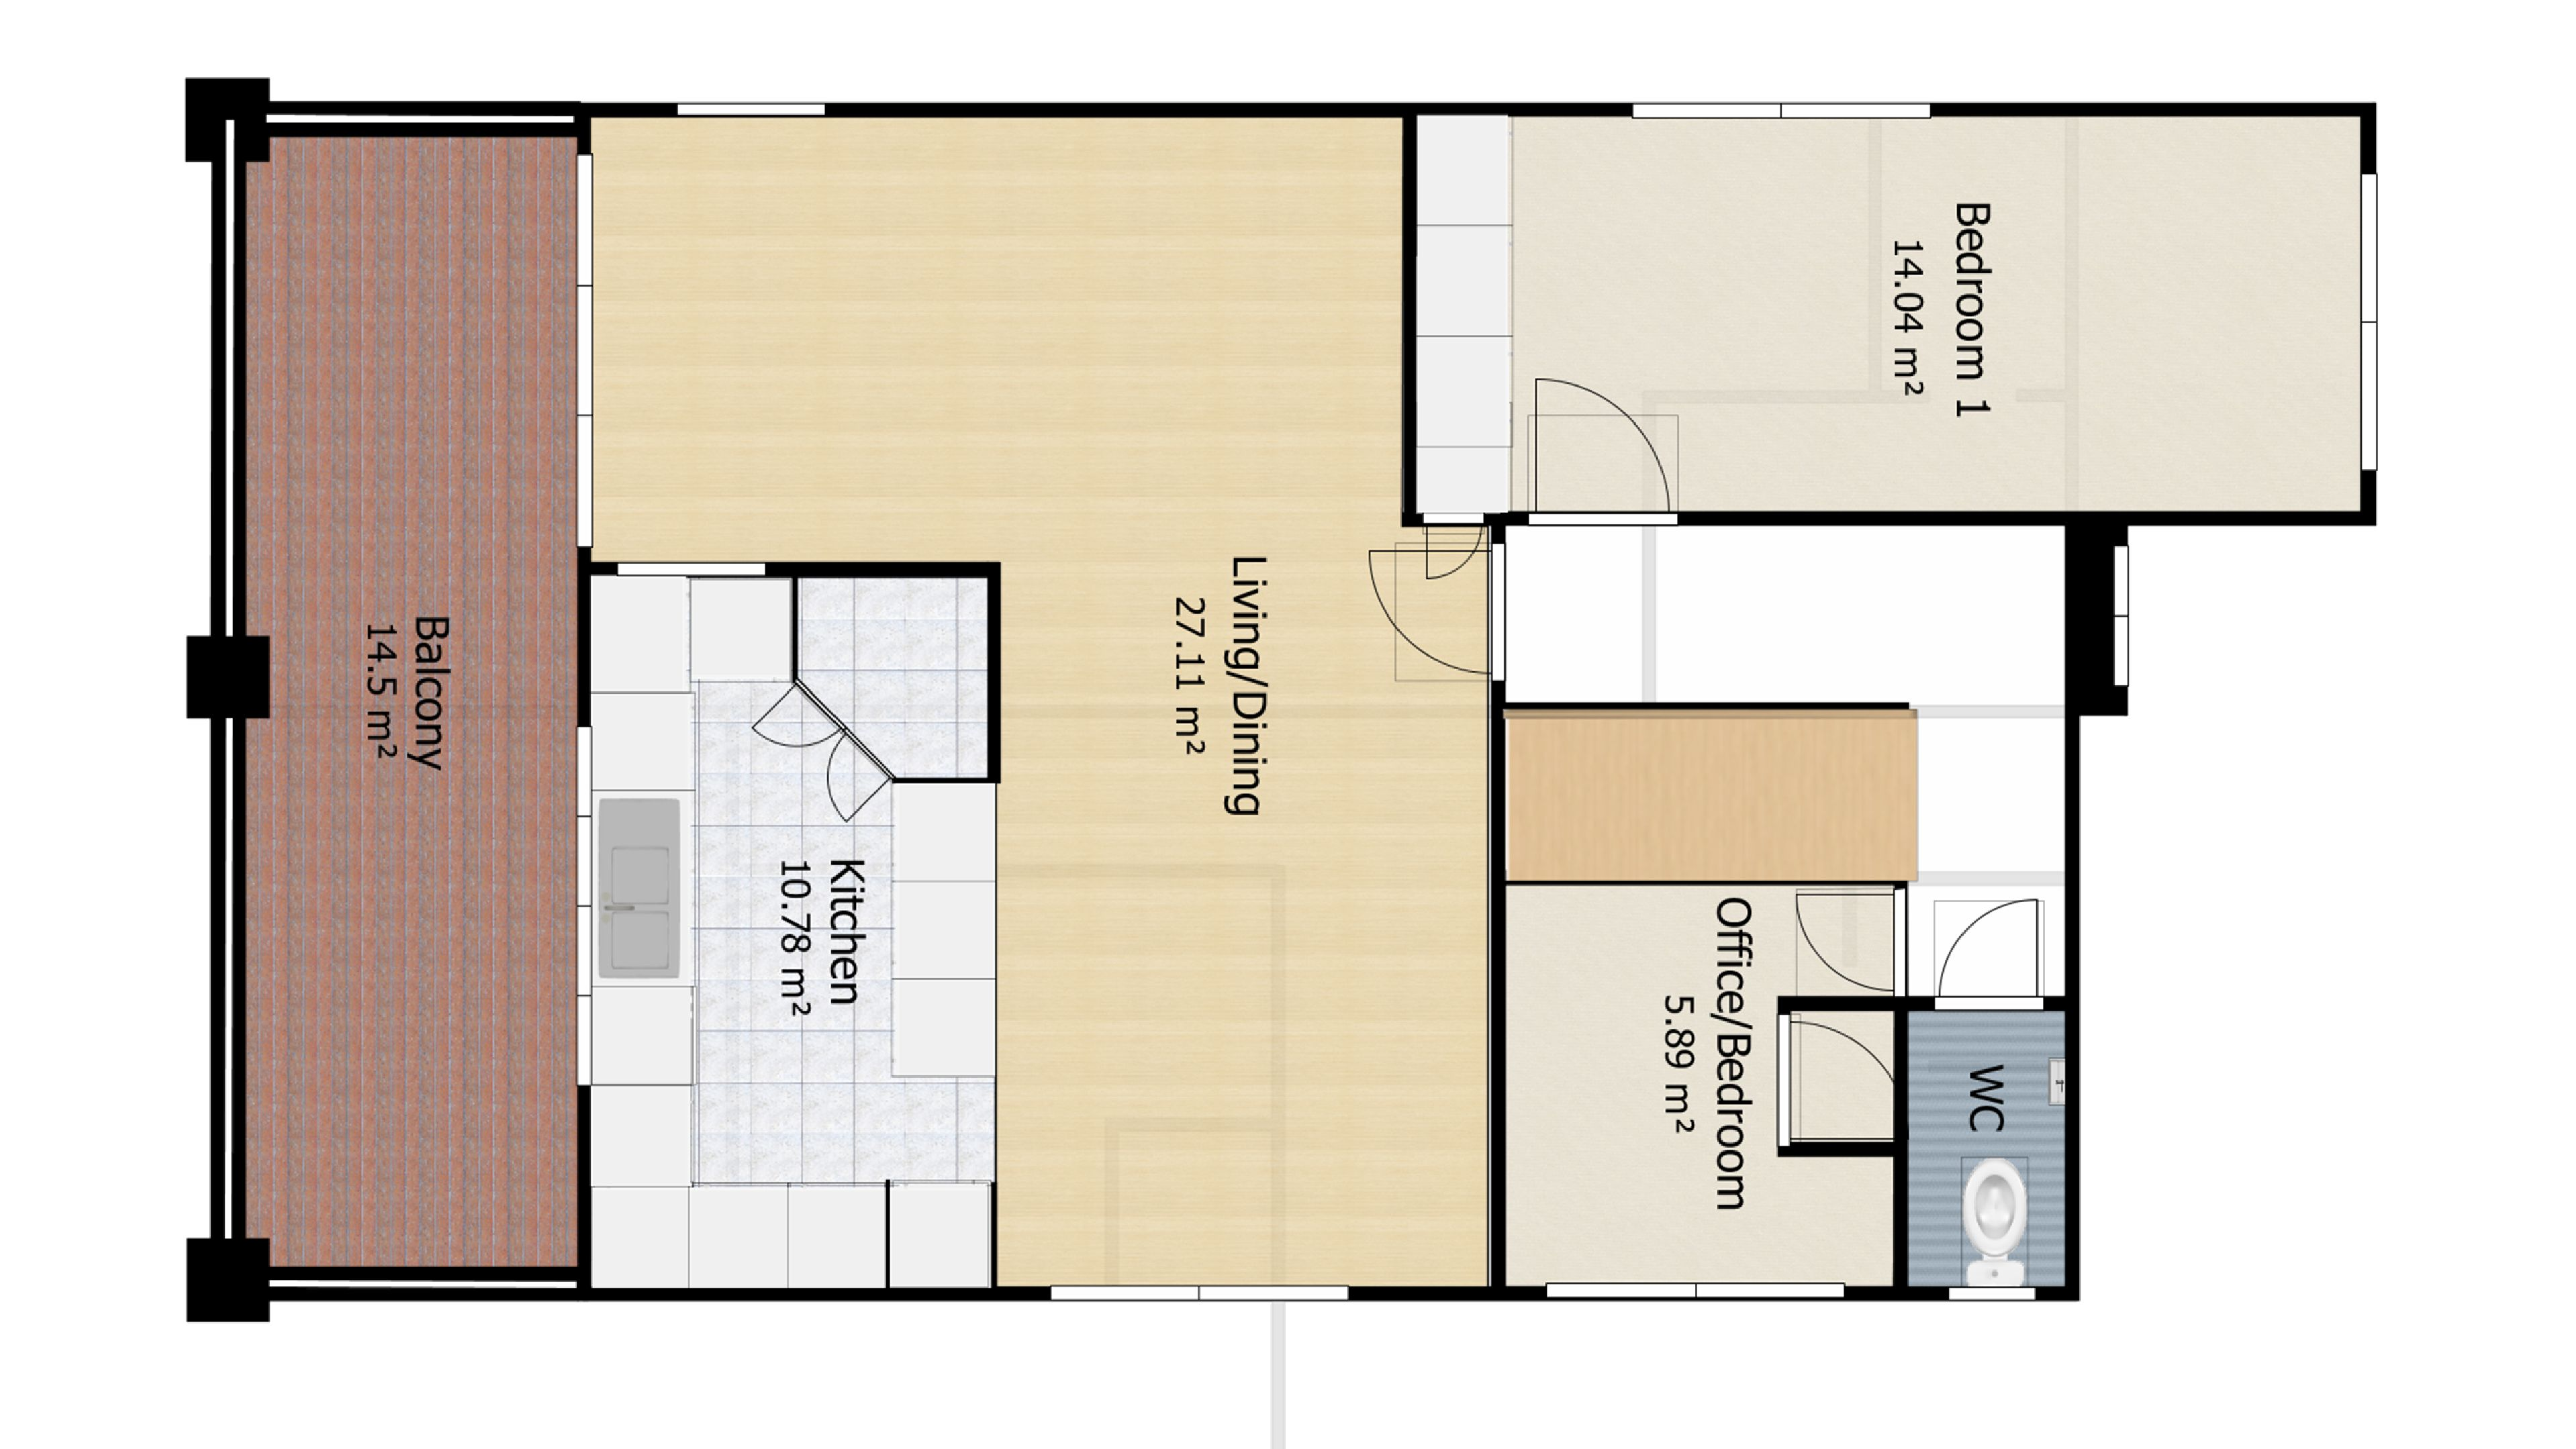balcony: (165, 69, 596, 1325)
door: (1362, 543, 1481, 699), (1794, 890, 1891, 993), (1953, 883, 2049, 985)
room: (1389, 92, 2399, 525), (1467, 502, 1916, 1313), (566, 545, 1014, 1325)
